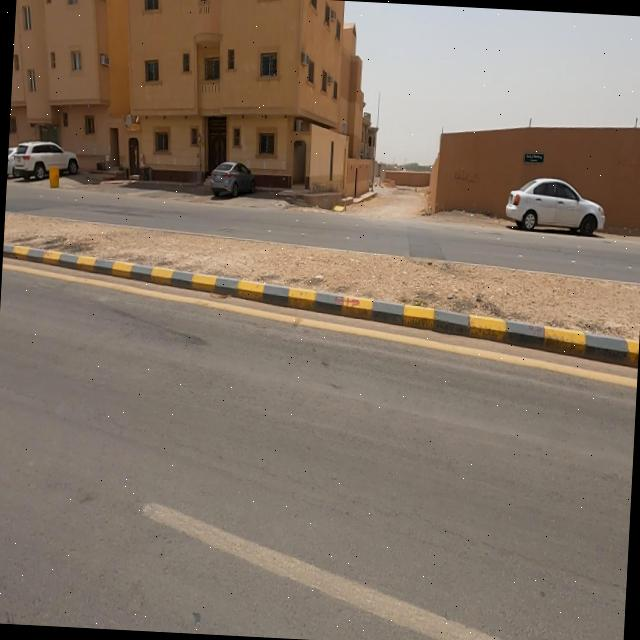Graffiti: (454, 168, 481, 187), (247, 160, 253, 171), (173, 158, 179, 167), (157, 158, 162, 168), (282, 162, 287, 171), (193, 159, 198, 168), (263, 161, 267, 170)
